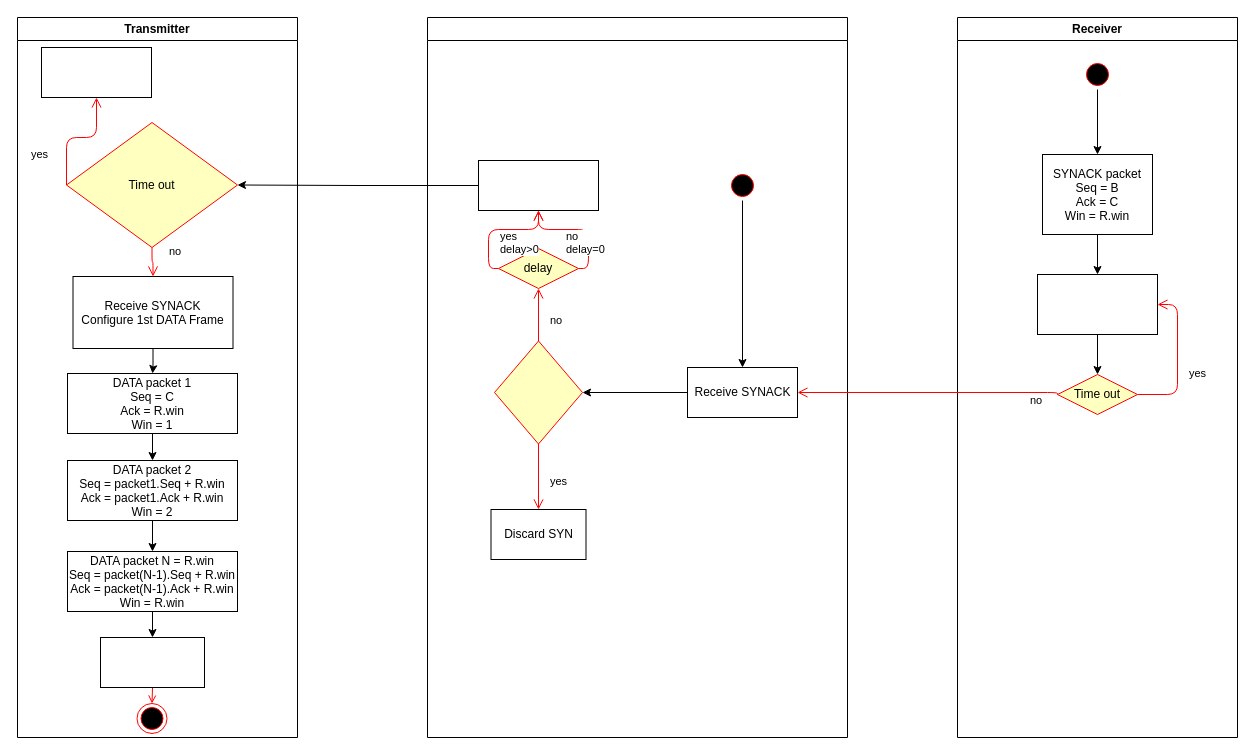
The diagram is 1255 pixels wide and 755 high, and some of its shapes have lost their labels. The box of each missing label's shape, as (x1, y1, x2, y2) in pixels:
Forward DATA packet: (478, 160, 598, 210)
Network: (426, 16, 848, 738)
Noise > RandNum: (494, 340, 582, 444)
Retransmit SYN: (40, 46, 152, 98)
Send DATA Frame Start Timer: (100, 636, 204, 688)
Sent SYNACK Start Timer: (1036, 274, 1158, 334)
